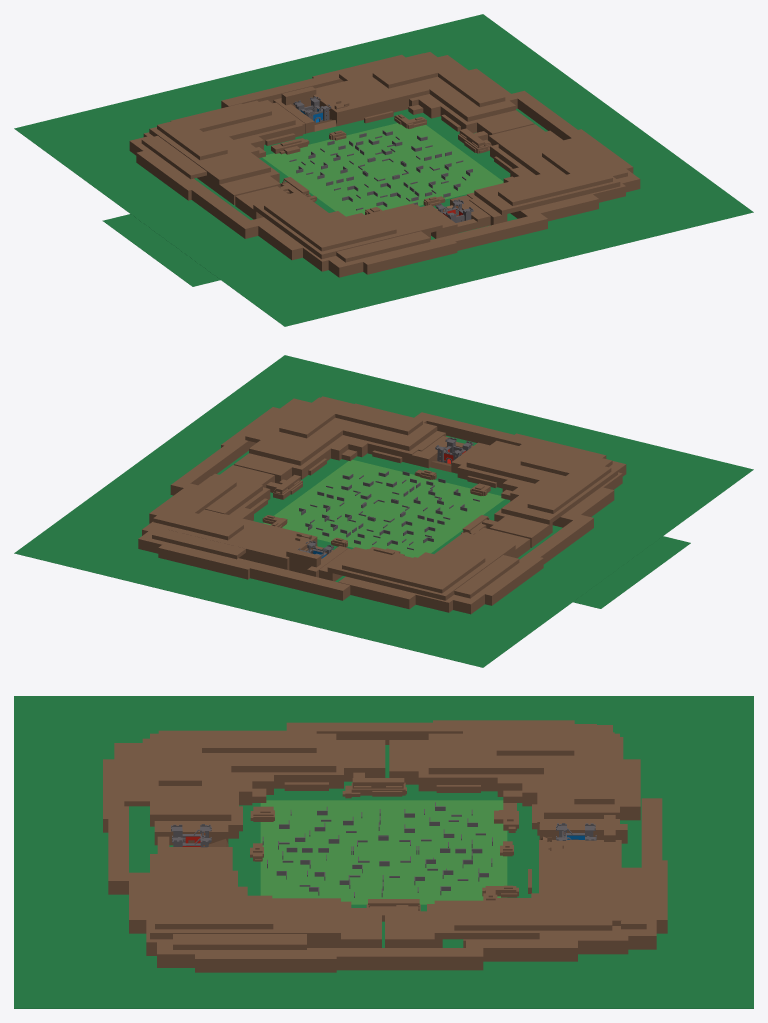
File: paintball.glb
3 views of the same model, one above another, from view 1: azimuth 30°, elevation 25°; view 2: azimuth 150°, elevation 25°; view 3: azimuth 270°, elevation 25° (orthographic). The views are drawn at different scales.
Visible parts, largest first — view 1: bigpaintball; view 2: bigpaintball; view 3: bigpaintball.
Boxes of the visible parts, x1,y1,x2,y2 form: bigpaintball: (14,14,753,326); bigpaintball: (14,355,753,667); bigpaintball: (14,696,753,1008).
Bounding box in the file's own units: 1584 × 100 × 1536.
